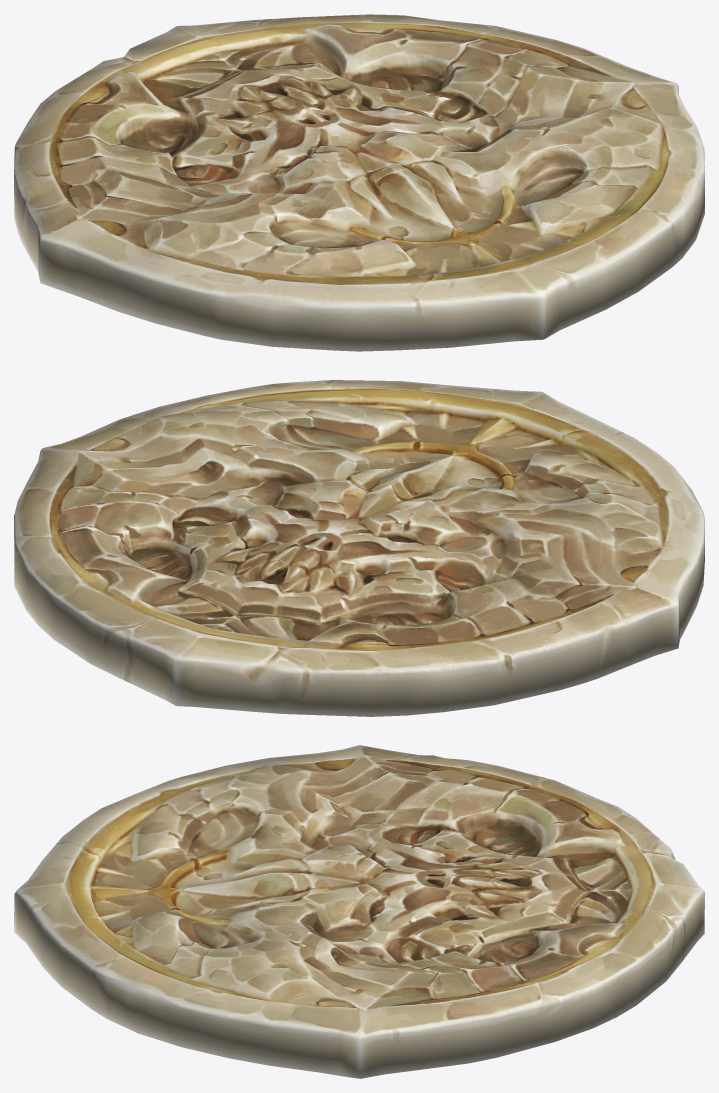
File: Ground_Decal_LG_A.fbx
The picture shows the model from 3 angles, top to bottom: view 1: azimuth 30°, elevation 25°; view 2: azimuth 150°, elevation 25°; view 3: azimuth 270°, elevation 25°; orthographic projection. The views are drawn at different scales.
Visible parts, largest first — view 1: Dn_HL_Ground_Decal_LG_A.001; view 2: Dn_HL_Ground_Decal_LG_A.001; view 3: Dn_HL_Ground_Decal_LG_A.001.
Part boxes in pixels (x1,y1,x2,y2): Dn_HL_Ground_Decal_LG_A.001: [14, 14, 704, 351]; Dn_HL_Ground_Decal_LG_A.001: [14, 380, 704, 716]; Dn_HL_Ground_Decal_LG_A.001: [14, 745, 704, 1078].
Bounding box in the file's own units: 10319 × 1056 × 10298.
1 material, 1 textured.
